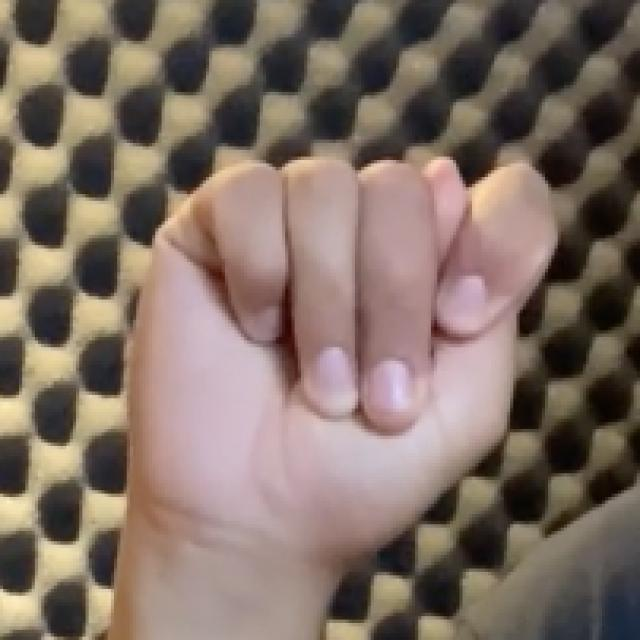T: (110, 136, 572, 557)
